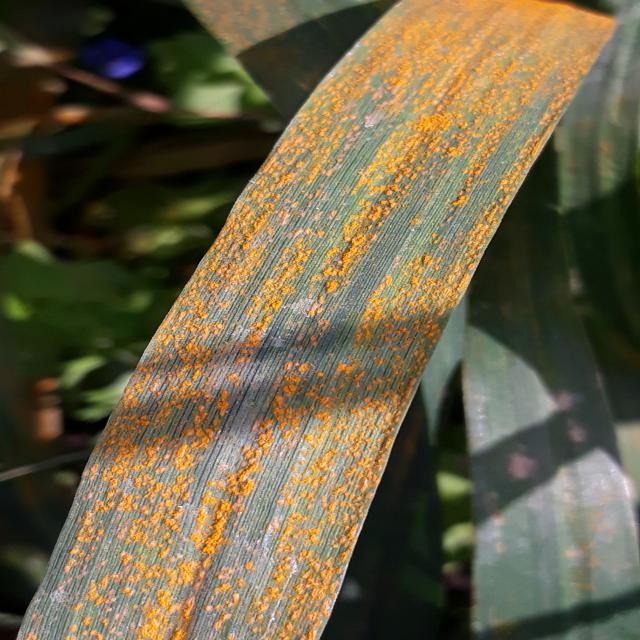yellow_rust: (17, 0, 626, 640)
